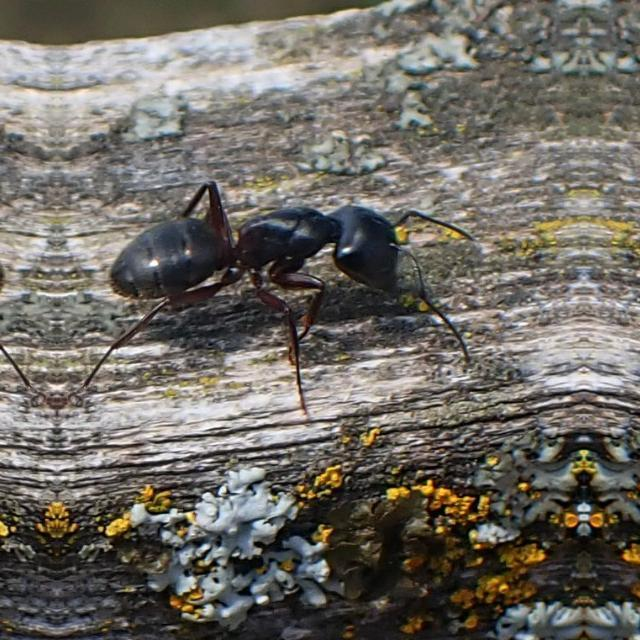Camponotus: (78, 130, 472, 384)
